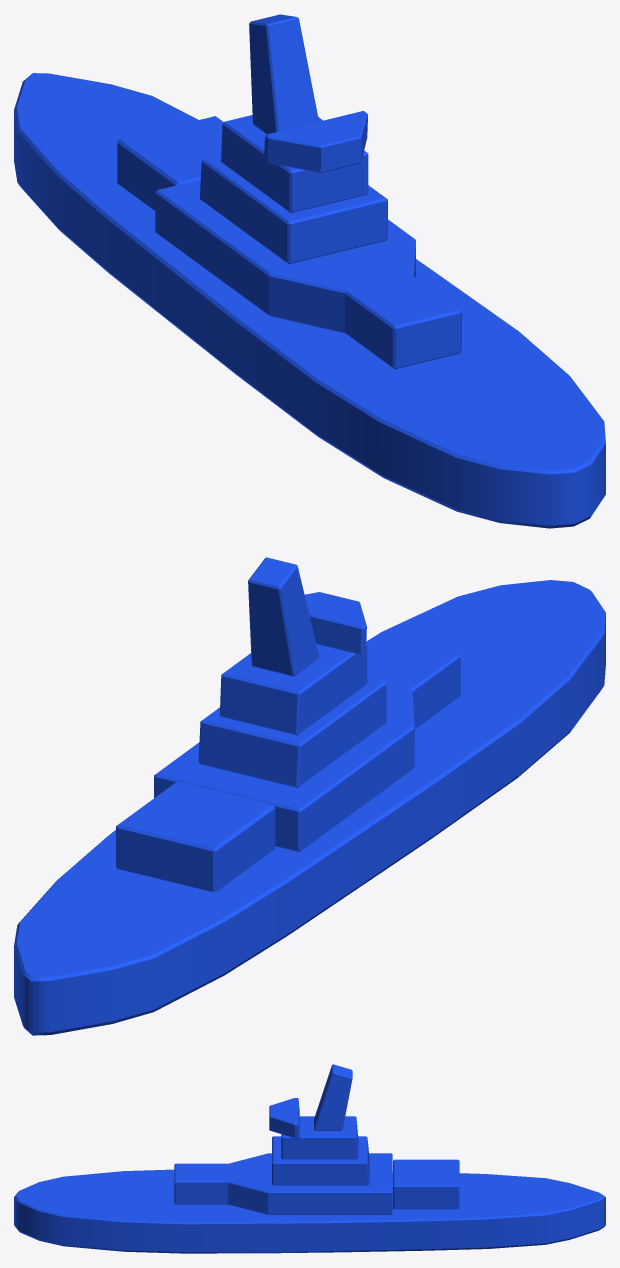
The model's file is Cruiser01.fbx.
3 views of the same model, one above another, from view 1: azimuth 30°, elevation 25°; view 2: azimuth 150°, elevation 25°; view 3: azimuth 270°, elevation 25° (orthographic). The views are drawn at different scales.
Parts seen in each view (by area): view 1: Hull; view 2: Hull; view 3: Hull.
Part boxes in pixels (box(x1,y1,x2,y2)): Hull: box(14, 14, 605, 528); Hull: box(14, 557, 605, 1035); Hull: box(14, 1064, 605, 1253).
Size of the model in its own units: 129 by 175 by 592.
Materials: 1 (1 with a texture image).
